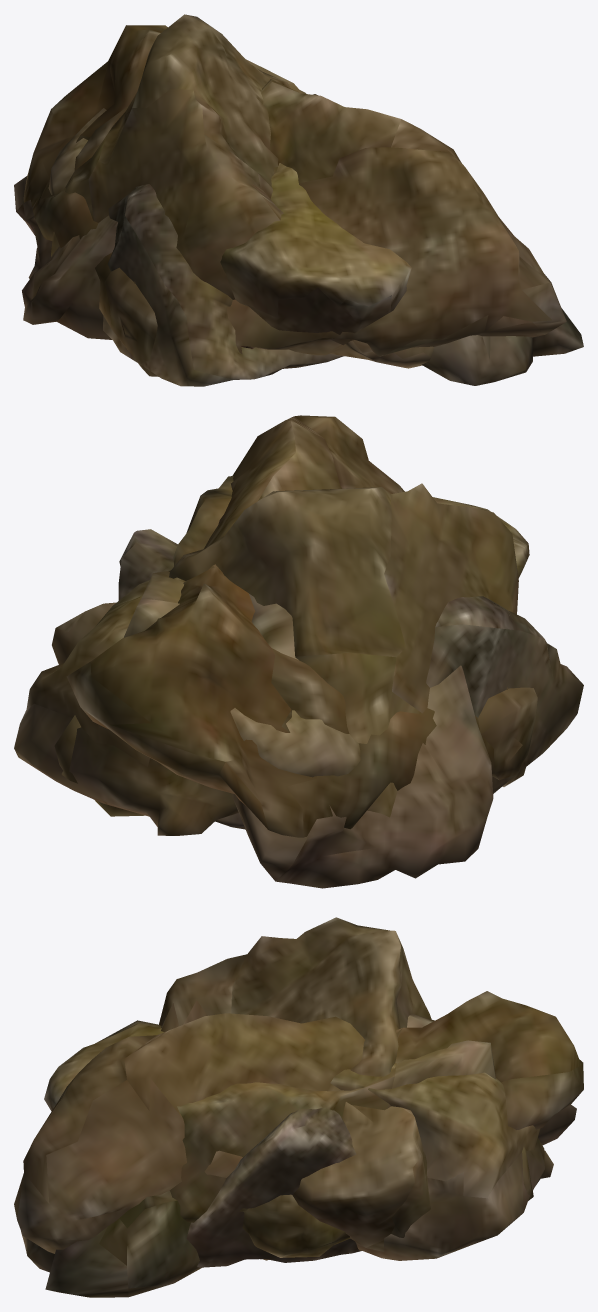
Rendered from rock_moss_set.glb.
The picture shows the model from 3 angles, top to bottom: view 1: azimuth 30°, elevation 25°; view 2: azimuth 150°, elevation 25°; view 3: azimuth 270°, elevation 25°; orthographic projection. The views are drawn at different scales.
Parts seen in each view (by area): view 1: rock_moss_00, rock_moss_03, rock_moss_04, rock_moss_02, rock_moss_01, rock_moss_05; view 2: rock_moss_00, rock_moss_03, rock_moss_01, rock_moss_04, rock_moss_02, rock_moss_05; view 3: rock_moss_00, rock_moss_03, rock_moss_04, rock_moss_05, rock_moss_01, rock_moss_02.
Boxes of the visible parts, bbox=[...] form: rock_moss_00: bbox=[23, 25, 566, 376]; rock_moss_03: bbox=[51, 14, 317, 299]; rock_moss_04: bbox=[48, 90, 411, 355]; rock_moss_02: bbox=[103, 184, 343, 386]; rock_moss_01: bbox=[14, 176, 583, 385]; rock_moss_05: bbox=[245, 59, 433, 368]; rock_moss_00: bbox=[66, 415, 537, 837]; rock_moss_03: bbox=[52, 483, 518, 817]; rock_moss_01: bbox=[232, 594, 493, 888]; rock_moss_04: bbox=[14, 497, 529, 835]; rock_moss_02: bbox=[118, 529, 583, 829]; rock_moss_05: bbox=[54, 476, 233, 816]; rock_moss_00: bbox=[14, 991, 583, 1260]; rock_moss_03: bbox=[159, 917, 431, 1251]; rock_moss_04: bbox=[44, 1020, 553, 1260]; rock_moss_05: bbox=[169, 1040, 533, 1257]; rock_moss_01: bbox=[21, 1014, 576, 1297]; rock_moss_02: bbox=[186, 1107, 361, 1267].
Size of the model in its own units: 2.65 by 1.76 by 3.36.
1 material, 1 textured.
